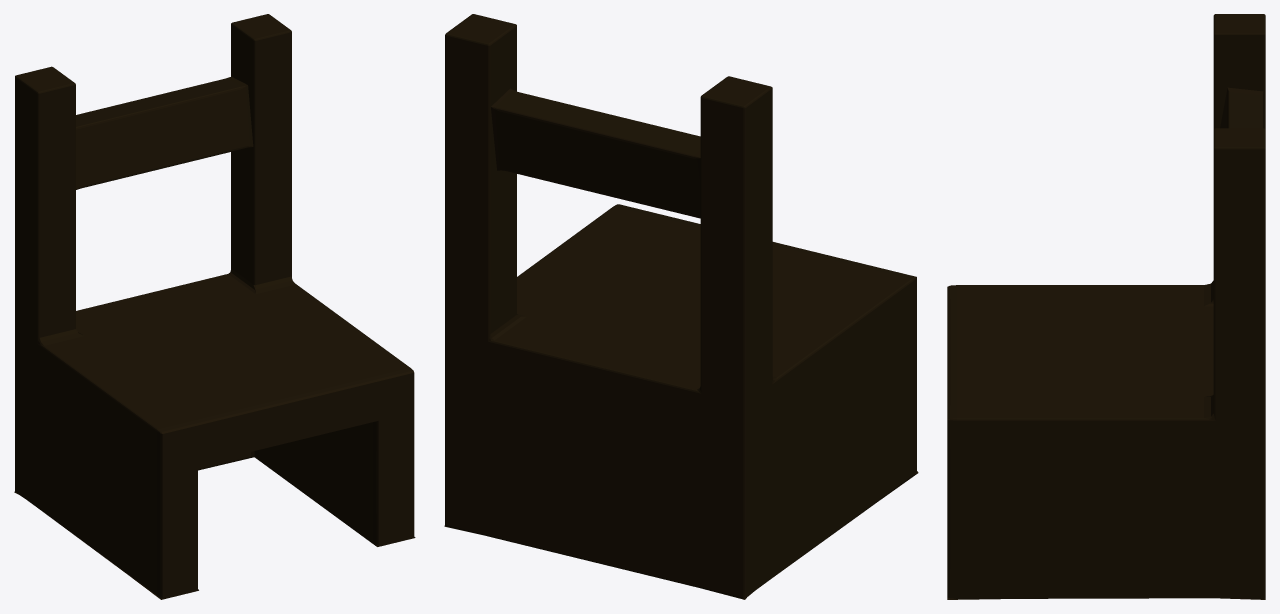
File: chair1.obj
3 views of the same model, side by side, from view 1: azimuth 30°, elevation 25°; view 2: azimuth 150°, elevation 25°; view 3: azimuth 270°, elevation 25° (orthographic). The views are drawn at different scales.
Visible parts, largest first — view 1: Chair4.001; view 2: Chair4.001; view 3: Chair4.001.
Part boxes in pixels (left/top/right/bottom): Chair4.001: left=14, top=14, right=415, bottom=599; Chair4.001: left=444, top=14, right=918, bottom=599; Chair4.001: left=947, top=14, right=1265, bottom=599.
Bounding box in the file's own units: 2 × 3.13 × 2.
